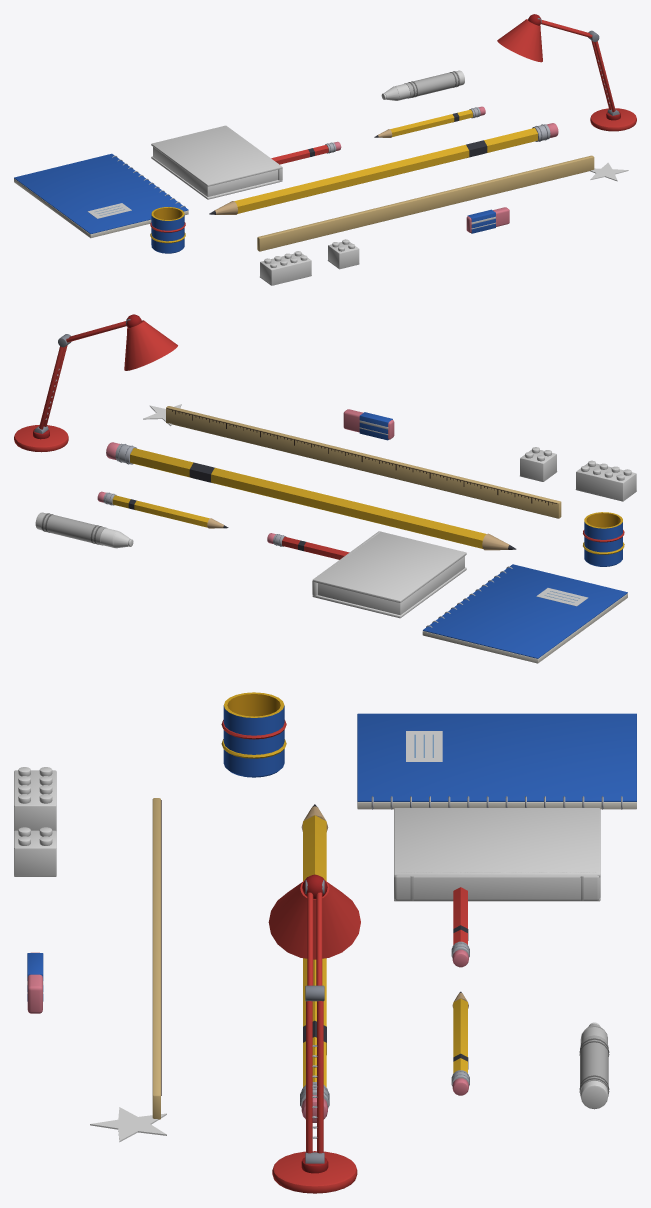
File: deskprops.fbx
The picture shows the model from 3 angles, top to bottom: view 1: azimuth 30°, elevation 25°; view 2: azimuth 150°, elevation 25°; view 3: azimuth 270°, elevation 25°; orthographic projection. The views are drawn at different scales.
Parts seen in each view (by area): view 1: Notebook, Ruler, BookCover, PencilLong, DeskLamp, PencilCup, BookPages, Brick2x4, Crayon, PencilShort, Eraser, Brick2x2 (+1 smaller); view 2: Notebook, Ruler, BookCover, PencilLong, DeskLamp, PencilCup, BookPages, Brick2x4, Crayon, PencilShort, Eraser, Brick2x2 (+1 smaller); view 3: Notebook, BookCover, DeskLamp, PencilCup, PencilLong, Ruler, Brick2x4, Crayon, Brick2x2, PencilShort, PencilRed, Star (+1 smaller).
Part boxes in pixels (x1=…): Notebook: x1=14, y1=153, x2=188, y2=238; Ruler: x1=257, y1=155, x2=594, y2=251; BookCover: x1=151, y1=125, x2=282, y2=199; PencilLong: x1=209, y1=123, x2=558, y2=214; DeskLamp: x1=497, y1=14, x2=636, y2=131; PencilCup: x1=150, y1=207, x2=185, y2=253; BookPages: x1=153, y1=147, x2=277, y2=196; Brick2x4: x1=260, y1=251, x2=311, y2=285; Crayon: x1=381, y1=70, x2=464, y2=100; PencilShort: x1=374, y1=106, x2=485, y2=137; Eraser: x1=466, y1=207, x2=509, y2=233; Brick2x2: x1=327, y1=239, x2=359, y2=269; Notebook: x1=422, y1=564, x2=627, y2=663; Ruler: x1=166, y1=406, x2=561, y2=518; BookCover: x1=312, y1=531, x2=466, y2=618; PencilLong: x1=106, y1=442, x2=516, y2=550; DeskLamp: x1=14, y1=314, x2=177, y2=452; PencilCup: x1=583, y1=512, x2=624, y2=566; BookPages: x1=318, y1=556, x2=464, y2=615; Brick2x4: x1=575, y1=460, x2=636, y2=501; Crayon: x1=35, y1=512, x2=133, y2=548; PencilShort: x1=97, y1=491, x2=228, y2=528; Eraser: x1=343, y1=409, x2=394, y2=440; Brick2x2: x1=520, y1=447, x2=557, y2=481; Notebook: x1=357, y1=713, x2=636, y2=809; BookCover: x1=394, y1=808, x2=600, y2=901; DeskLamp: x1=268, y1=874, x2=360, y2=1193; PencilCup: x1=221, y1=692, x2=286, y2=777; PencilLong: x1=300, y1=804, x2=329, y2=1122; Ruler: x1=152, y1=798, x2=161, y2=1119; Brick2x4: x1=14, y1=767, x2=56, y2=831; Crayon: x1=579, y1=1022, x2=609, y2=1109; Brick2x2: x1=14, y1=827, x2=56, y2=876; PencilShort: x1=451, y1=991, x2=469, y2=1095; PencilRed: x1=451, y1=887, x2=469, y2=967; Star: x1=90, y1=1107, x2=166, y2=1142.
Bounding box in the file's own units: 184 × 42.15 × 103.
